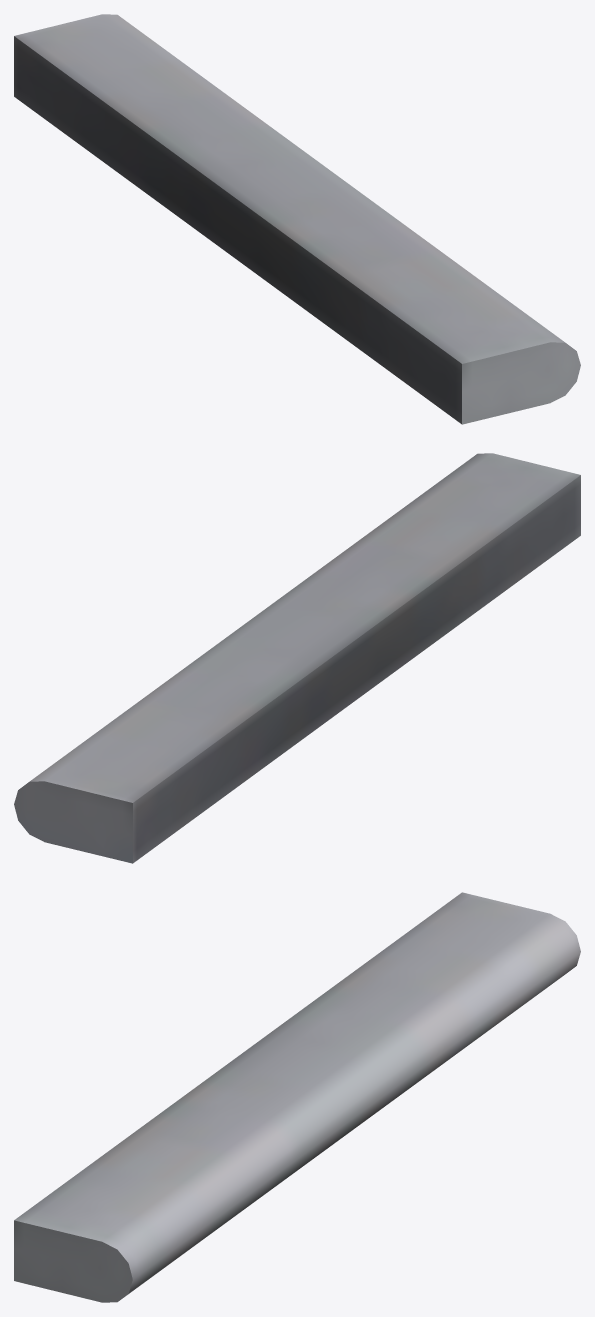
File: frigate_radar.gltf
The picture shows the model from 3 angles, top to bottom: view 1: azimuth 30°, elevation 25°; view 2: azimuth 150°, elevation 25°; view 3: azimuth 330°, elevation 25°; orthographic projection.
Visible parts, largest first — view 1: atas; view 2: atas; view 3: atas.
Part boxes in pixels (<box>): atas: <box>14,14,580,424</box>; atas: <box>14,453,580,863</box>; atas: <box>14,892,580,1302</box>.
Bounding box in the file's own units: 0.4708 × 0.2307 × 3.08.
1 material, 1 textured.
